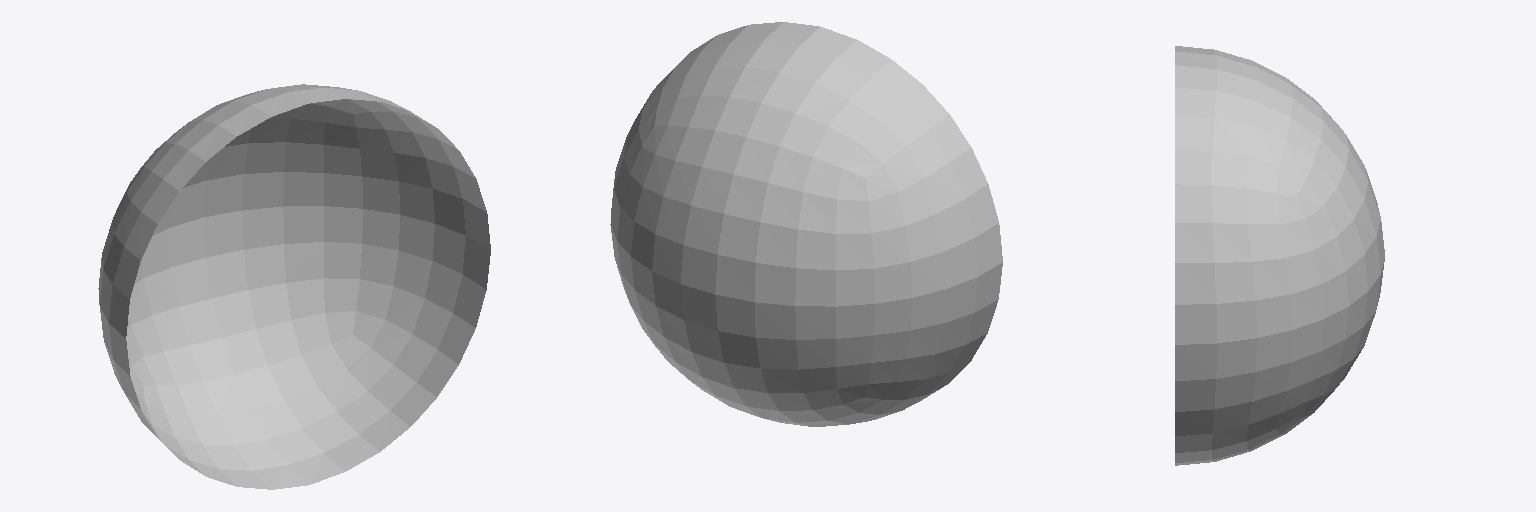
The model's file is HalfSphere.obj.
3 views of the same model, side by side, from view 1: azimuth 30°, elevation 25°; view 2: azimuth 150°, elevation 25°; view 3: azimuth 270°, elevation 25° (orthographic).
Visible parts, largest first — view 1: HalfSphere; view 2: HalfSphere; view 3: HalfSphere.
Part boxes in pixels (x1,y1,x2,y2): HalfSphere: (98, 84, 490, 489); HalfSphere: (610, 22, 1002, 426); HalfSphere: (1175, 46, 1384, 465).
Size of the model in its own units: 1 by 1 by 0.5.